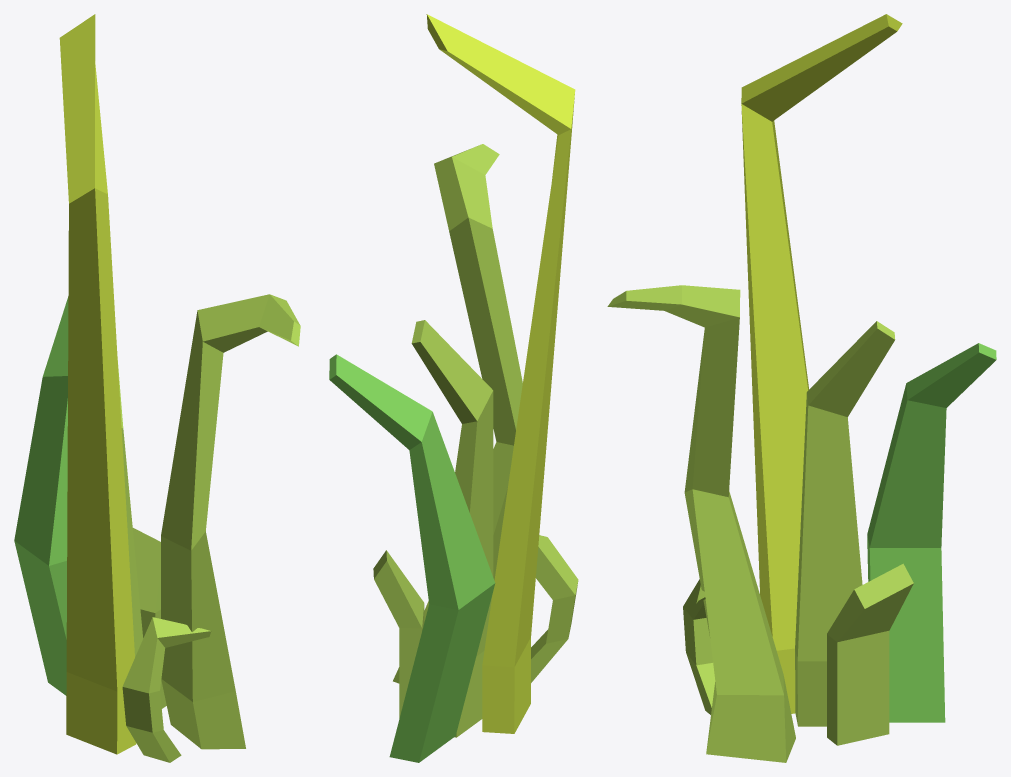
The model's file is Grama 2.fbx.
3 renders of one model, left to right at view 1: azimuth 30°, elevation 25°; view 2: azimuth 150°, elevation 25°; view 3: azimuth 270°, elevation 25°, orthographic. The views are drawn at different scales.
Parts seen in each view (by area): view 1: Graminha 10, Graminha 12, Graminha 9, Graminha 11, Graminha 13, Graminha 8; view 2: Graminha 10, Graminha 9, Graminha 12, Graminha 8, Graminha 11, Graminha 13; view 3: Graminha 10, Graminha 12, Graminha 9, Graminha 8, Graminha 13, Graminha 11.
Boxes of the visible parts, x1,y1,x2,y2 form: Graminha 10: (59,14,136,754); Graminha 12: (161,294,300,749); Graminha 9: (14,297,68,695); Graminha 11: (122,617,211,762); Graminha 13: (132,528,166,708); Graminha 8: (117,360,143,656); Graminha 10: (426,14,575,733); Graminha 9: (329,354,495,762); Graminha 12: (393,144,522,683); Graminha 8: (411,320,493,737); Graminha 11: (531,535,578,682); Graminha 13: (373,550,424,718); Graminha 10: (741,14,902,713); Graminha 12: (607,285,795,762); Graminha 9: (867,343,996,722); Graminha 8: (795,321,895,726); Graminha 13: (827,563,913,745); Graminha 11: (683,579,715,714).
Bounding box in the file's own units: 449 × 1696 × 844.
